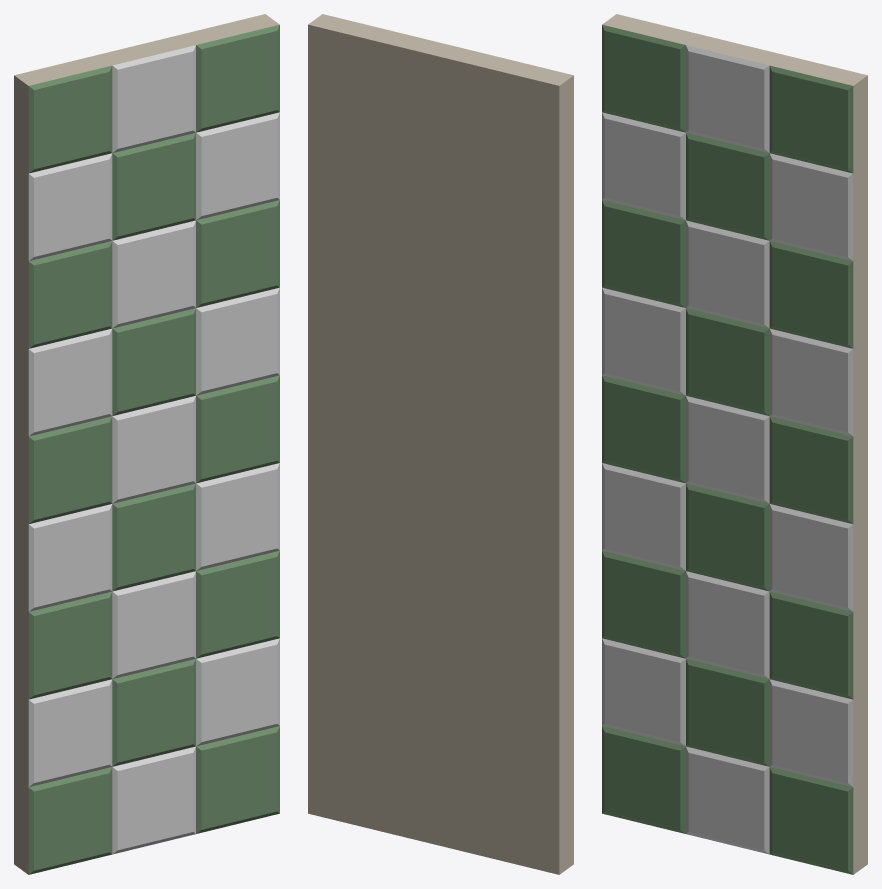
Rendered from Mesh_WallCeramic_K2.fbx.
The picture shows the model from 3 angles, left to right: view 1: azimuth 30°, elevation 25°; view 2: azimuth 150°, elevation 25°; view 3: azimuth 330°, elevation 25°; orthographic projection.
Parts seen in each view (by area): view 1: Mesh_WallCeramic_K2; view 2: Mesh_WallCeramic_K2; view 3: Mesh_WallCeramic_K2.
Part boxes in pixels (left/top/right/bottom): Mesh_WallCeramic_K2: left=14, top=14, right=279, bottom=874; Mesh_WallCeramic_K2: left=308, top=14, right=573, bottom=874; Mesh_WallCeramic_K2: left=602, top=14, right=867, bottom=874.
Size of the model in its own units: 1 by 3 by 0.1096.
